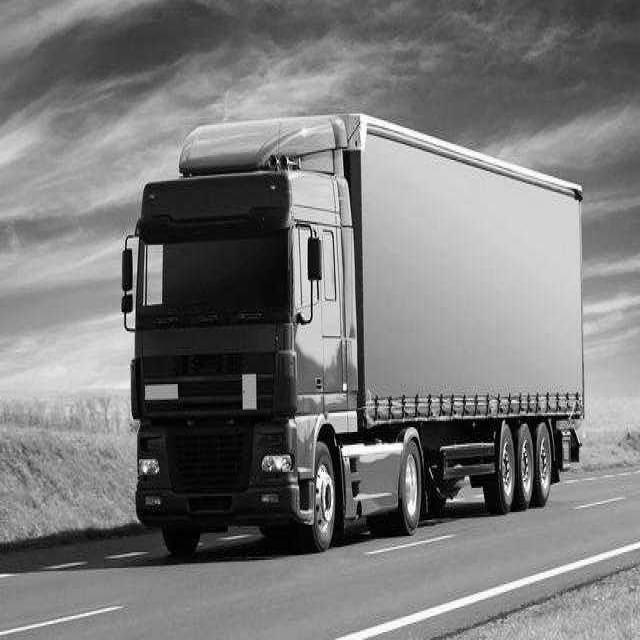Truck: (121, 114, 584, 557)
